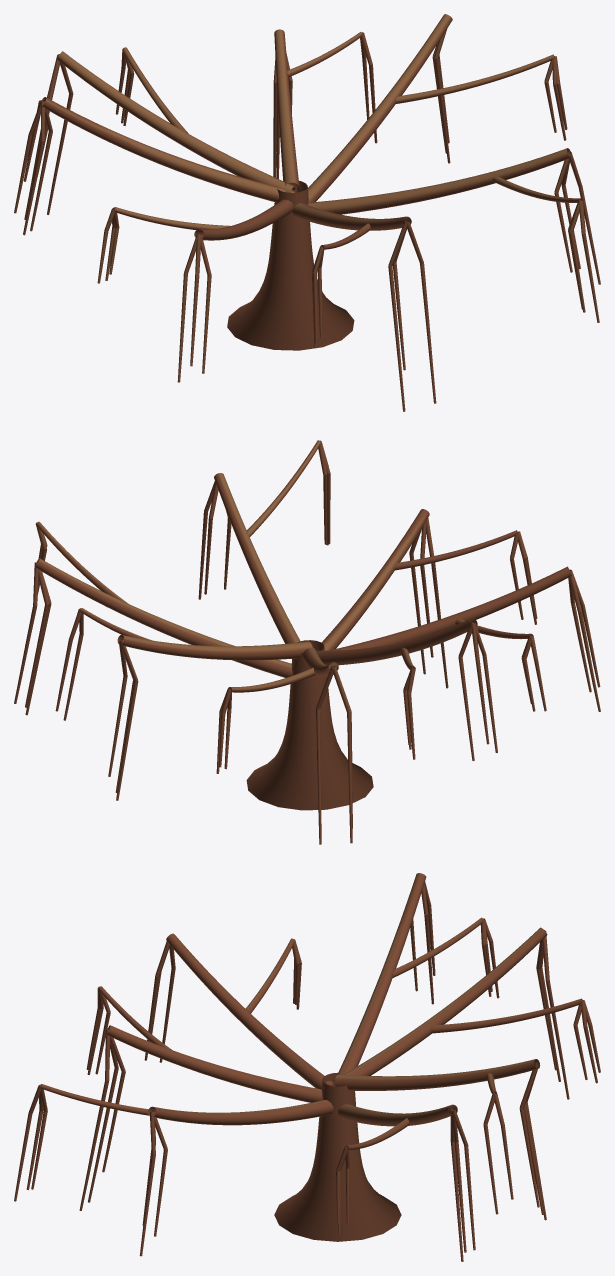
Rendered from colony-tree-22-bark.obj.
3 renders of one model, top to bottom at view 1: azimuth 30°, elevation 25°; view 2: azimuth 150°, elevation 25°; view 3: azimuth 270°, elevation 25°, orthographic.
Parts seen in each view (by area): view 1: bark; view 2: bark; view 3: bark.
Boxes of the visible parts, box(x1,y1,x2,y2) form: bark: box(14, 14, 600, 411); bark: box(14, 440, 600, 844); bark: box(14, 873, 600, 1261).
Bounding box in the file's own units: 804 × 374 × 816.
